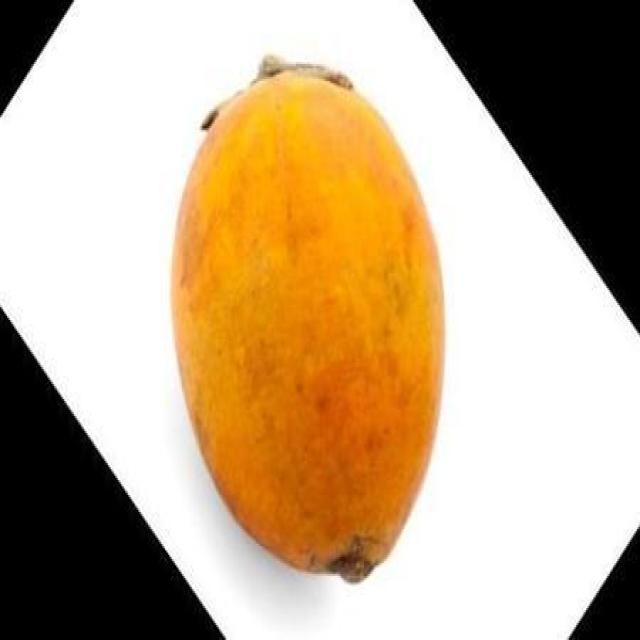good: (166, 68, 448, 587)
